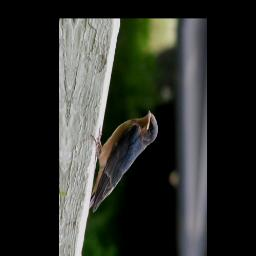Swallow: (85, 103, 159, 220)
